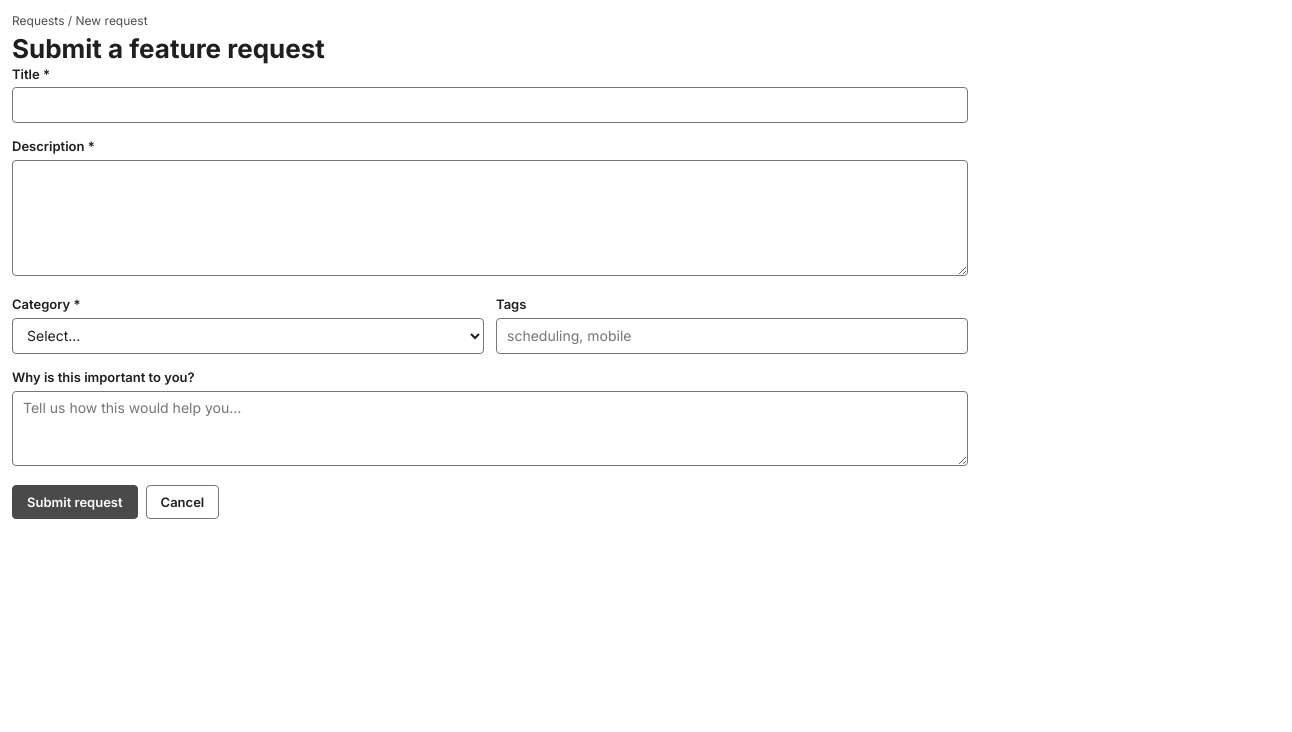
Test case: Submit a feature request › marks the fields the server rejects
The width and height of the screenshot is (1292, 732).
In the field labelled "Title *": coordinates (490, 105) [12,87,968,123], type "Dark mode"
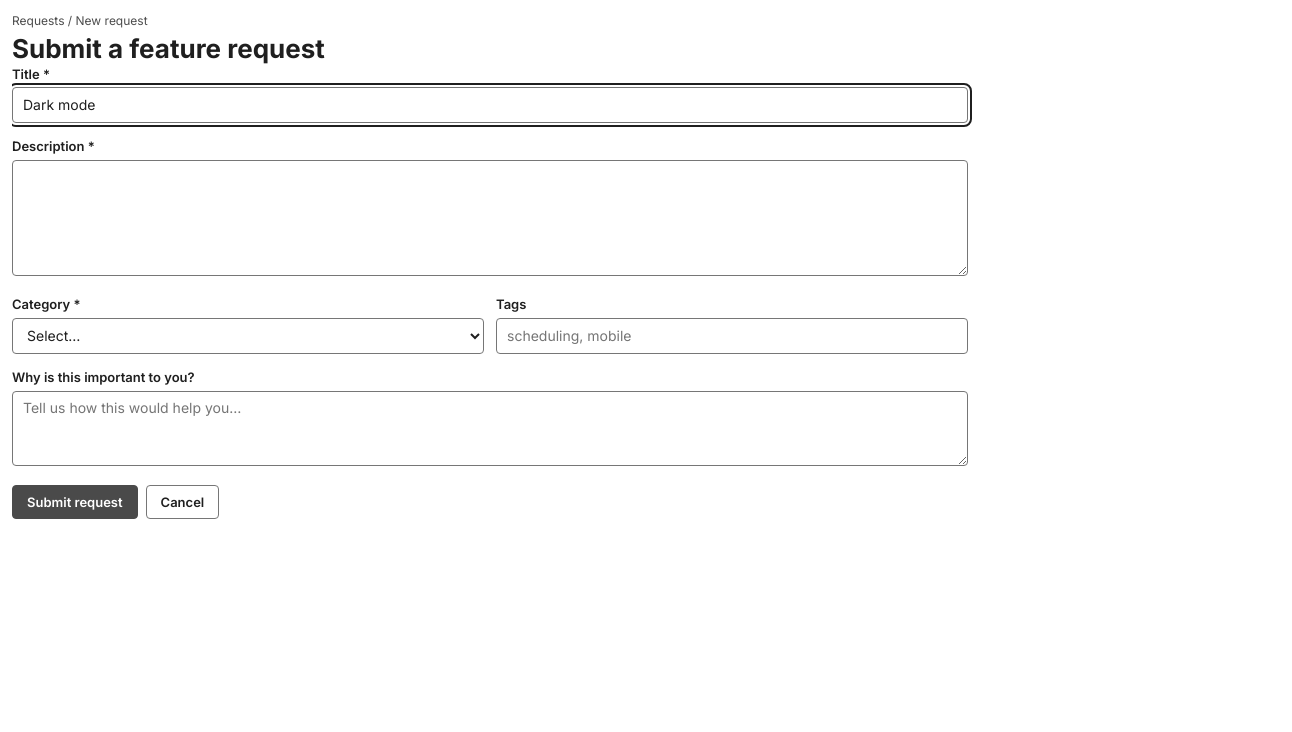
Click the button "Submit request": coordinates (75, 502) [12,485,138,519]
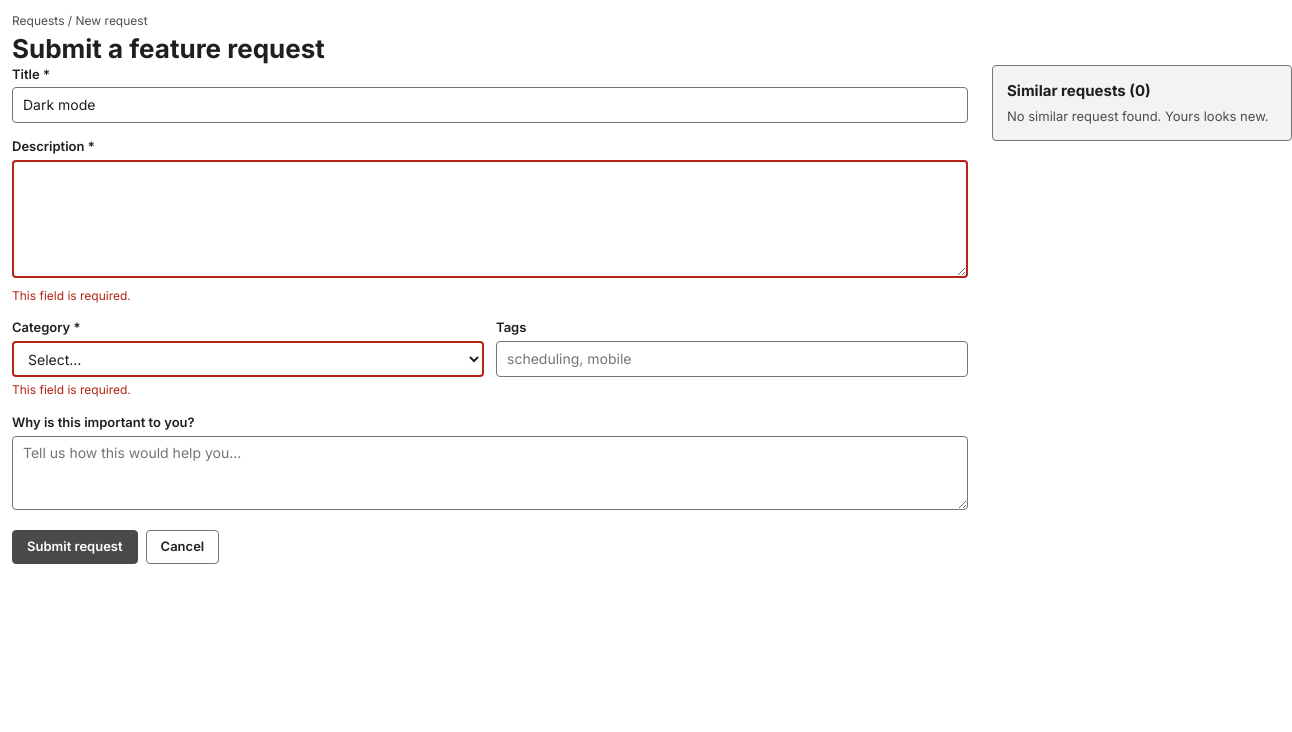
Result: the text "This field is required." is shown 2 times at [12,288,131,303]; [12,382,131,397]
